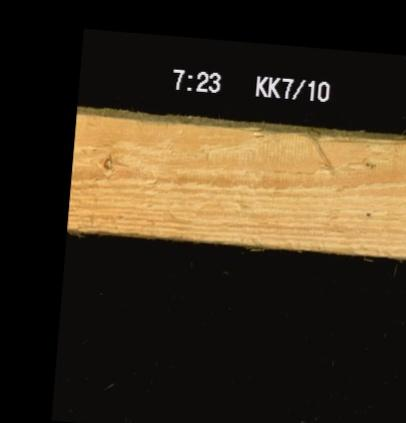small_knot: (98, 152, 113, 170)
